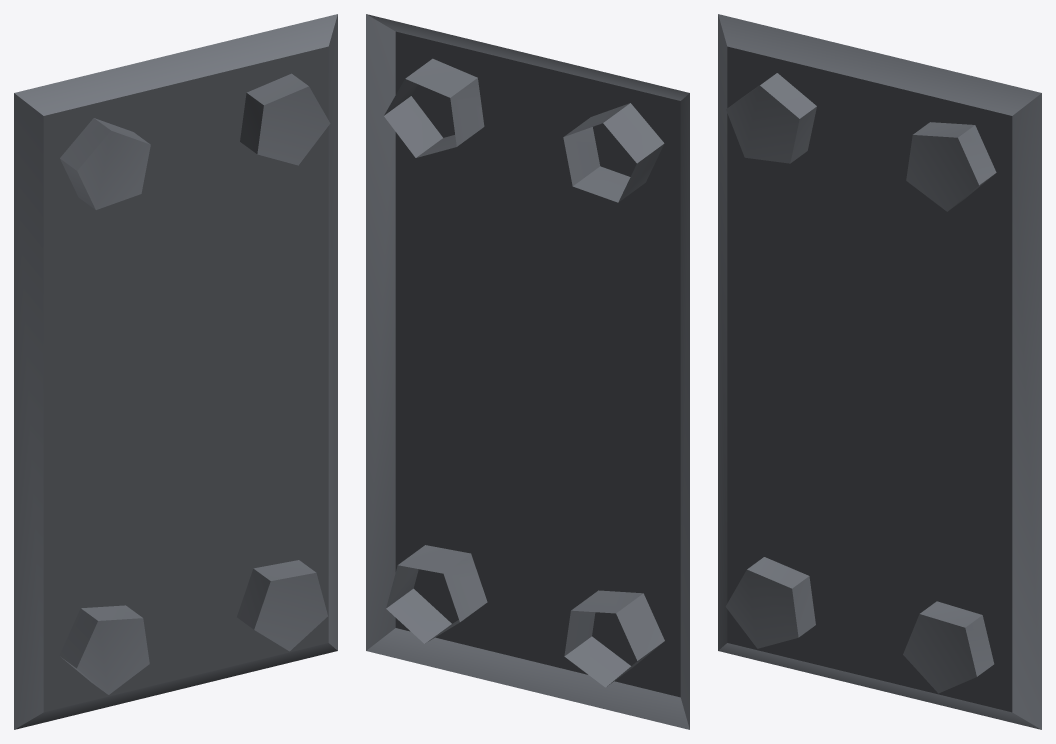
Rendered from SecTechMaintPanel.glb.
3 views of the same model, side by side, from view 1: azimuth 30°, elevation 25°; view 2: azimuth 150°, elevation 25°; view 3: azimuth 330°, elevation 25° (orthographic).
Parts seen in each view (by area): view 1: SecTechMaintPanel; view 2: SecTechMaintPanel; view 3: SecTechMaintPanel.
Boxes of the visible parts, left/top/right/bottom form: SecTechMaintPanel: left=14, top=14, right=337, bottom=729; SecTechMaintPanel: left=366, top=14, right=689, bottom=729; SecTechMaintPanel: left=718, top=14, right=1041, bottom=729.
Size of the model in its own units: 0.2485 by 0.4672 by 0.0598.
1 material, 1 textured.
